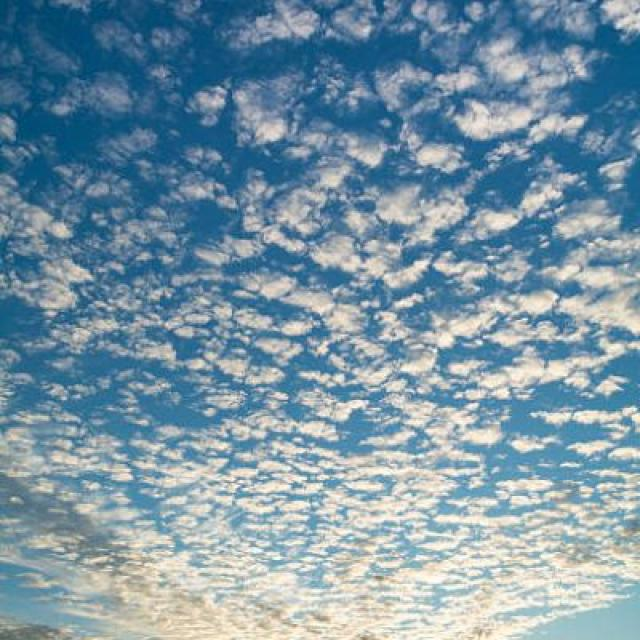Ac: (1, 1, 640, 602)
